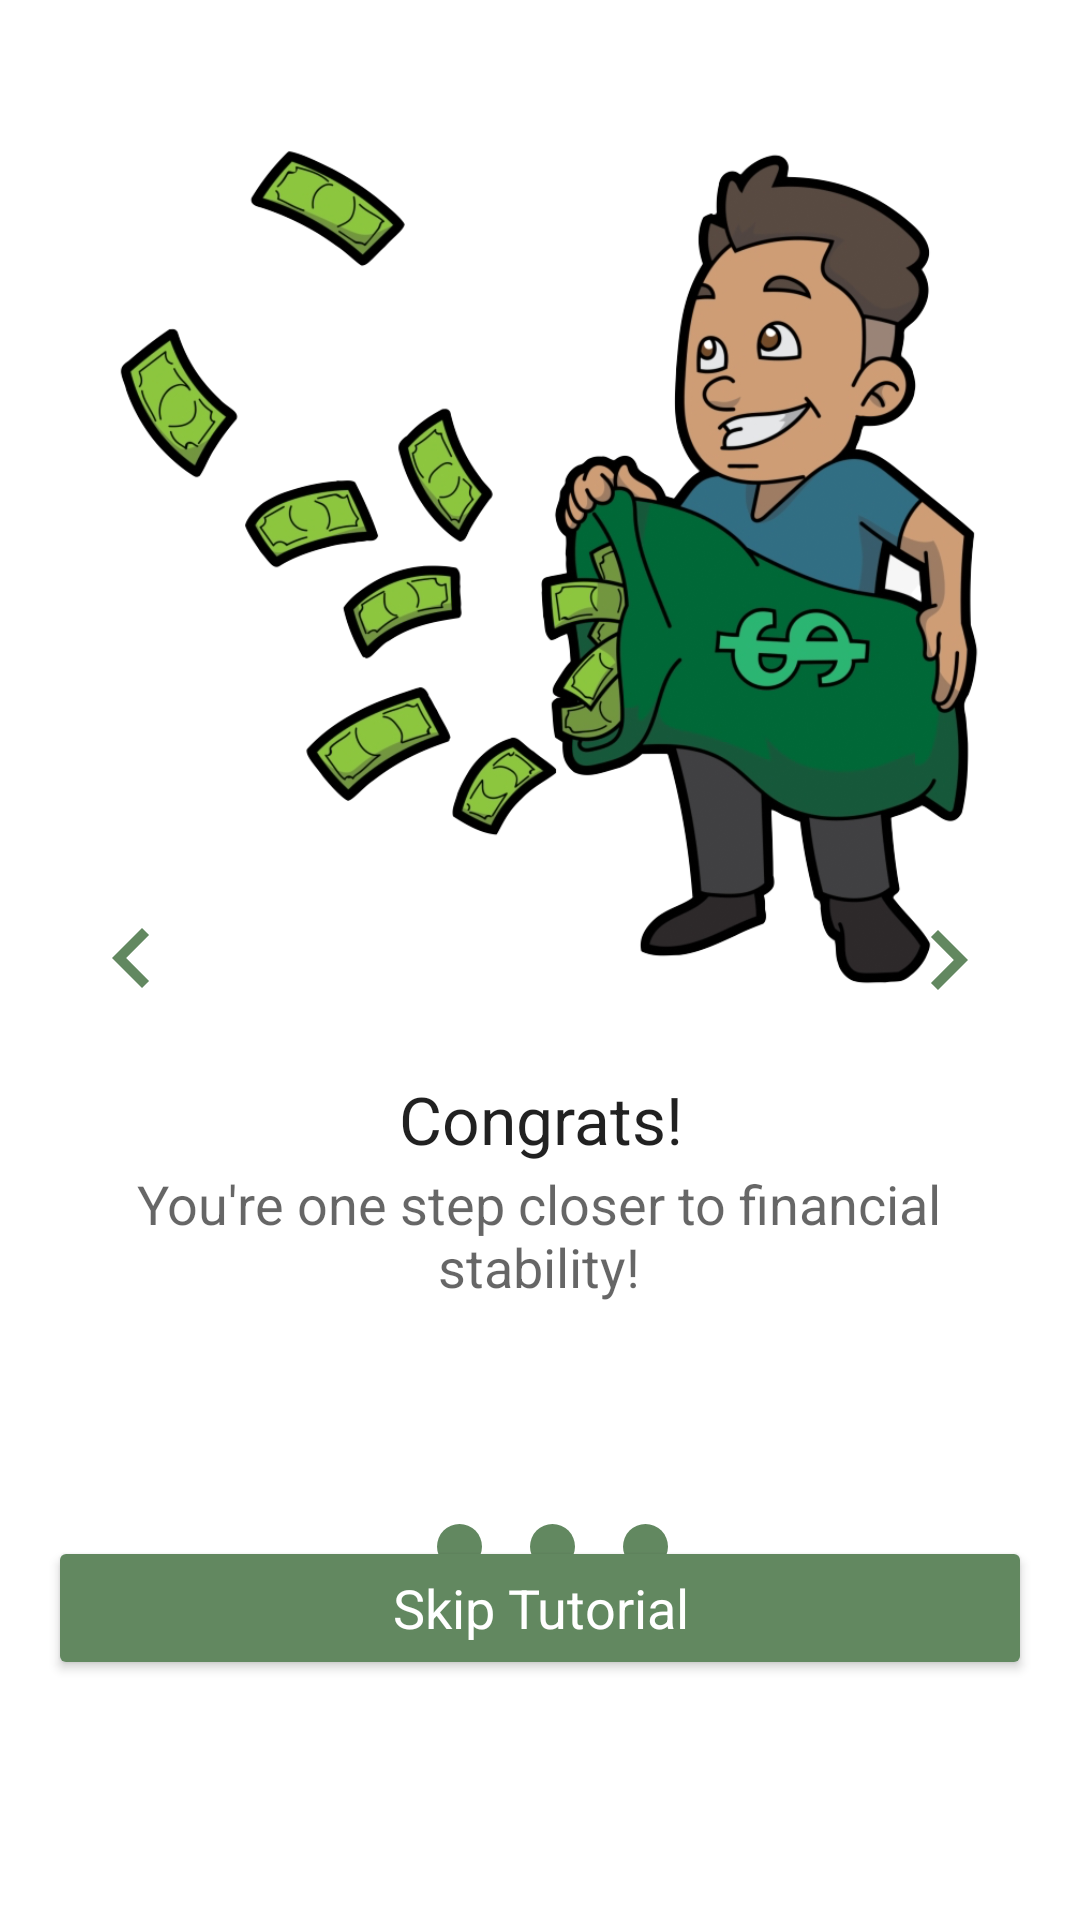

Icons on this 1080*1920 Android screen, each with the point to tap as (x,y):
back: (130,958)
